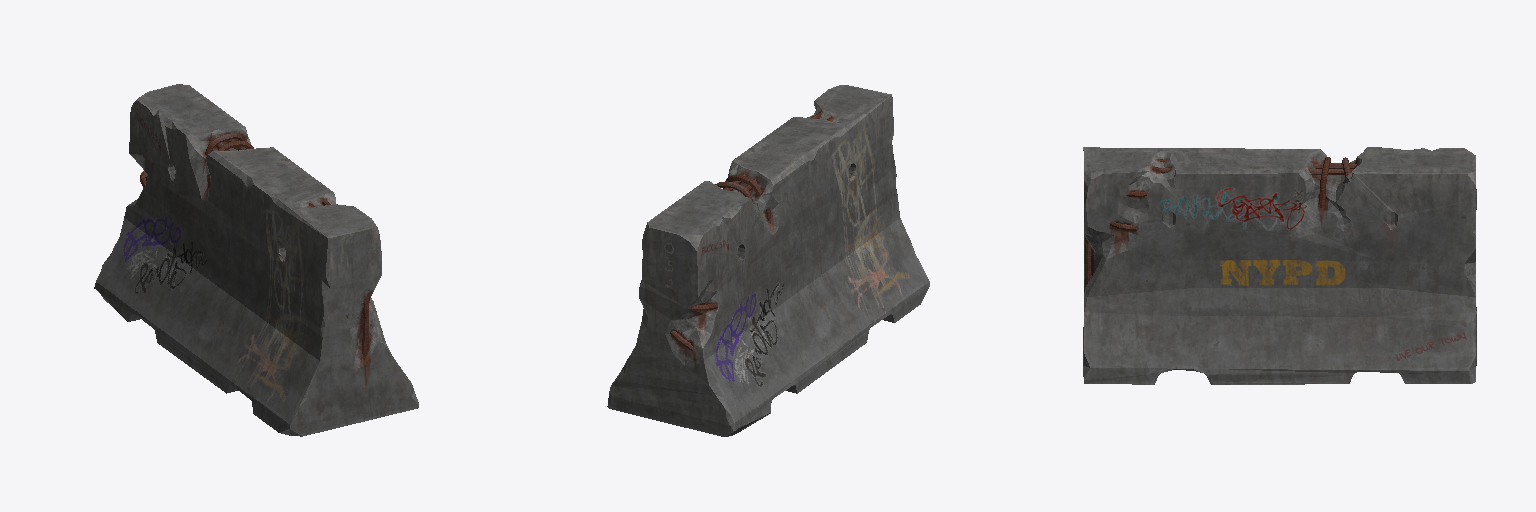
3 renders of one model, left to right at view 1: azimuth 30°, elevation 25°; view 2: azimuth 150°, elevation 25°; view 3: azimuth 270°, elevation 25°, orthographic.
Visible parts, largest first — view 1: defaultMaterial.001, defaultMaterial.002; view 2: defaultMaterial.001, defaultMaterial; view 3: defaultMaterial.001, defaultMaterial.002.
Boxes of the visible parts, <box> form: defaultMaterial.001: <box>94,84,418,436</box>; defaultMaterial.002: <box>140,139,368,359</box>; defaultMaterial.001: <box>607,85,929,436</box>; defaultMaterial: <box>715,175,770,223</box>; defaultMaterial.001: <box>1083,147,1476,384</box>; defaultMaterial.002: <box>1085,159,1356,286</box>.
Bounding box in the file's own units: 0.7681 × 1.09 × 2.
1 materials, 1 textured.